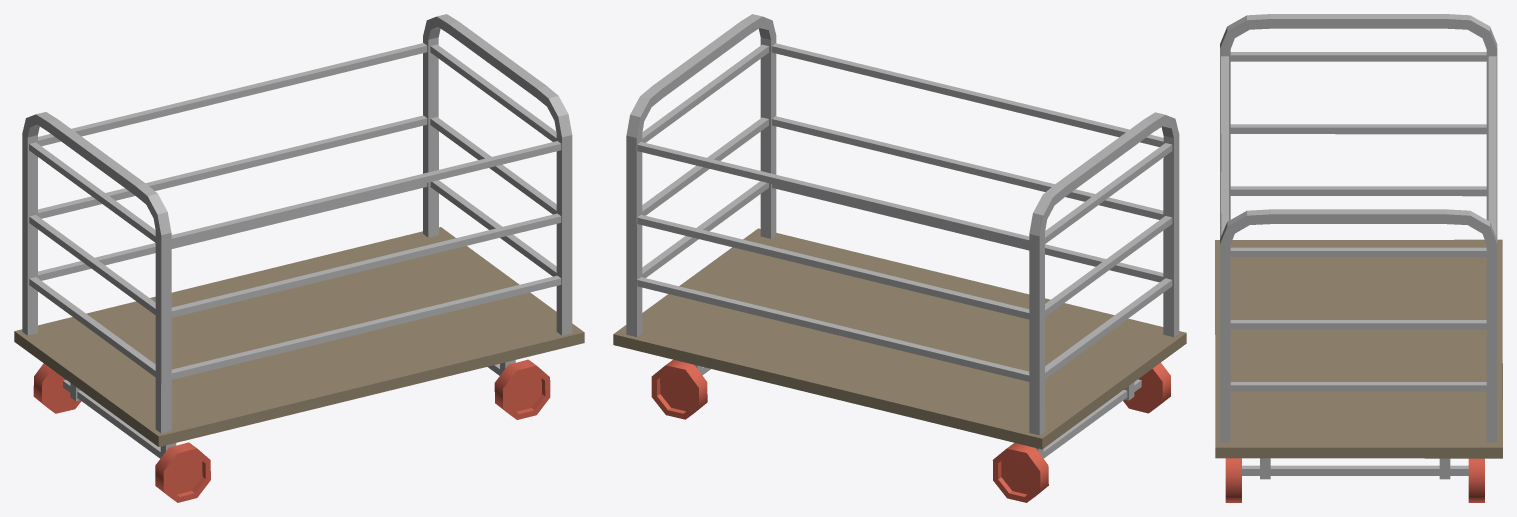
The model's file is SM_Gurney_01.fbx.
3 renders of one model, left to right at view 1: azimuth 30°, elevation 25°; view 2: azimuth 150°, elevation 25°; view 3: azimuth 270°, elevation 25°, orthographic.
Parts seen in each view (by area): view 1: SM_Gurney_01; view 2: SM_Gurney_01; view 3: SM_Gurney_01.
Part boxes in pixels (x1,y1,x2,y2): SM_Gurney_01: [14, 14, 584, 502]; SM_Gurney_01: [613, 14, 1186, 502]; SM_Gurney_01: [1215, 14, 1502, 502].
Bounding box in the file's own units: 159 × 108 × 92.73.
